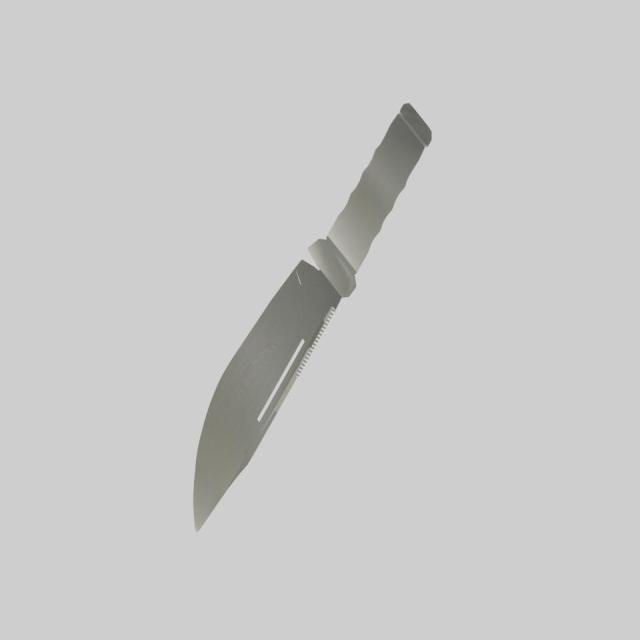knife: (319, 104, 432, 286)
